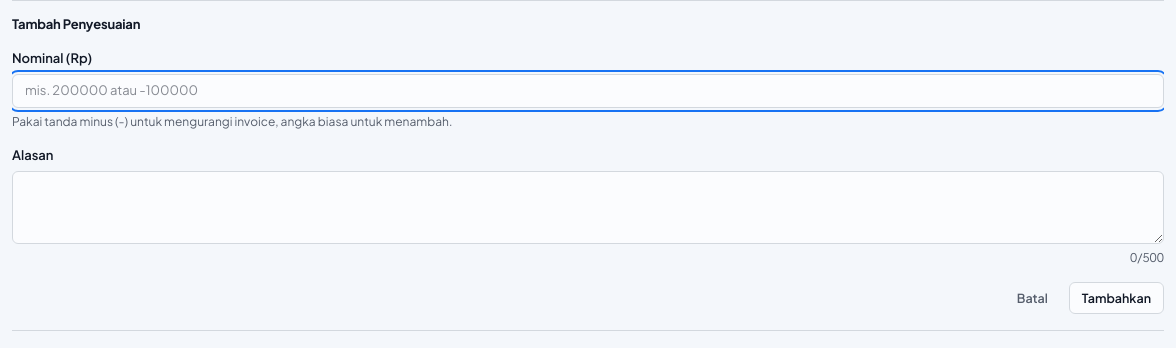
it: AdjustmentForm › says below the amount field what is wrong with it, in the backend's words
Type "1.2345" into the field labelled "Nominal (Rp)" at point(588, 91), box 12,74 -> 1164,108
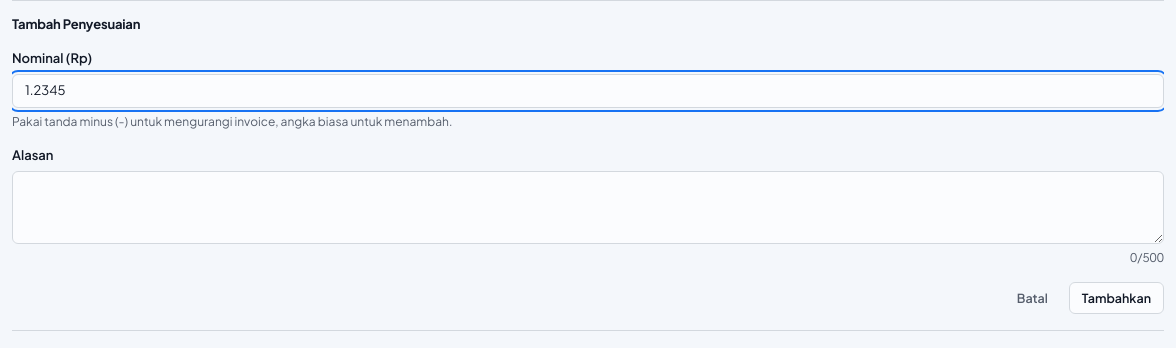
Type "Koreksi" into the text box labelled "Alasan" at point(588, 207), box 12,171 -> 1164,244
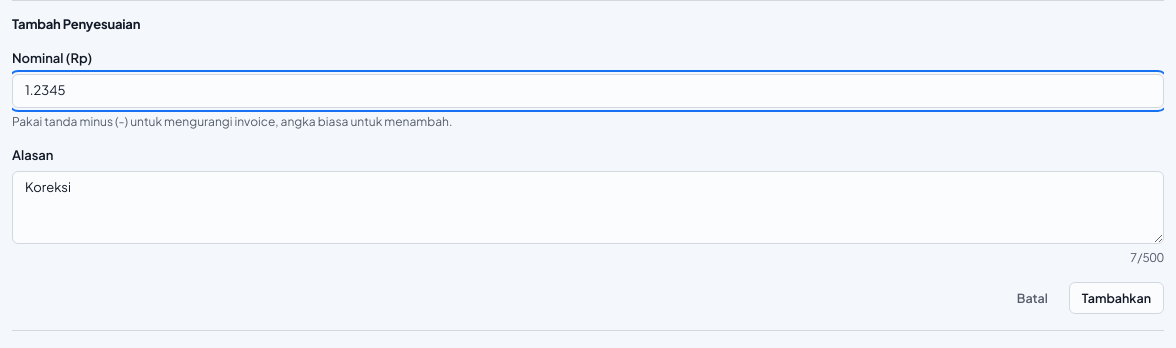
Click the button "Tambahkan" at point(1116, 298), box 1069,282 -> 1164,314
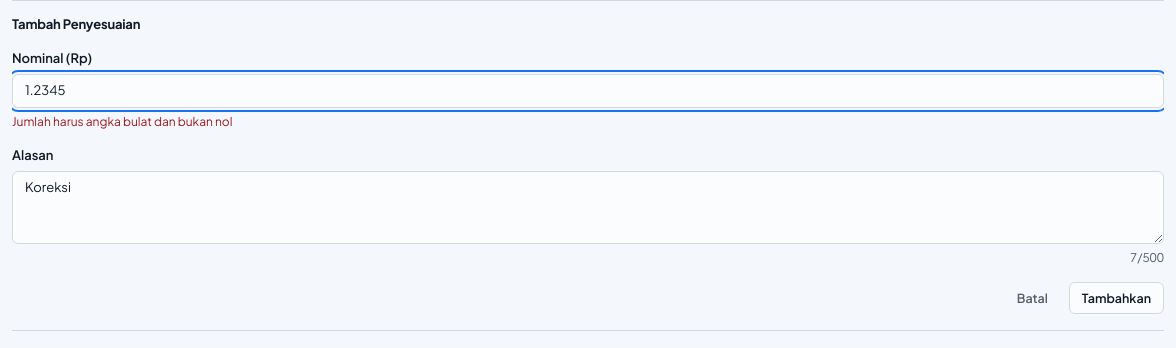
Check: the text "Jumlah harus angka bulat dan bukan nol" is shown, box 12,114 -> 232,129
